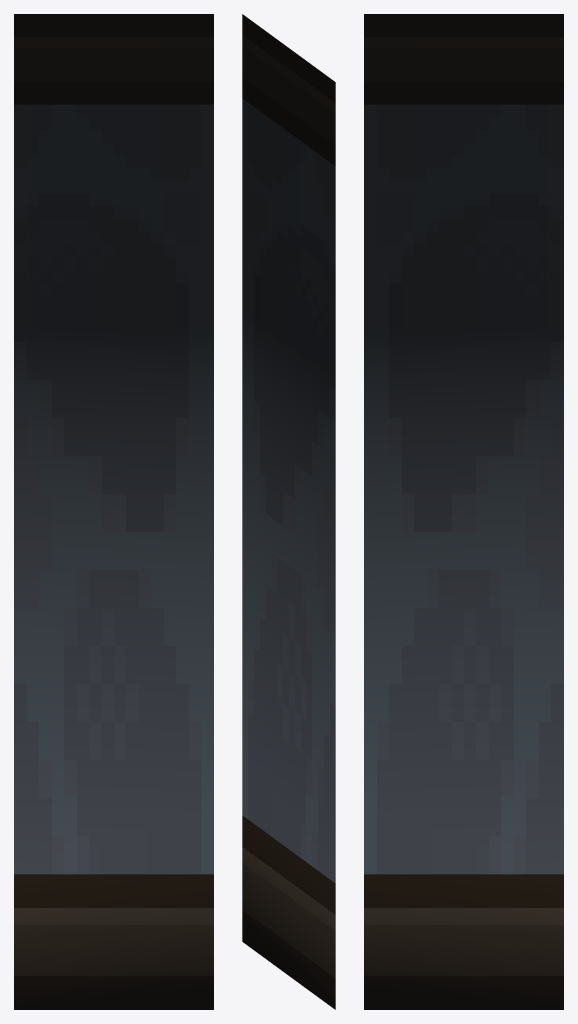
The picture shows the model from 3 angles, left to right: view 1: azimuth 90°, elevation 25°; view 2: azimuth 210°, elevation 25°; view 3: azimuth 270°, elevation 25°; orthographic projection. The views are drawn at different scales.
Size of the model in its own units: 0 by 5.5 by 1.
2 materials, 2 textured.
